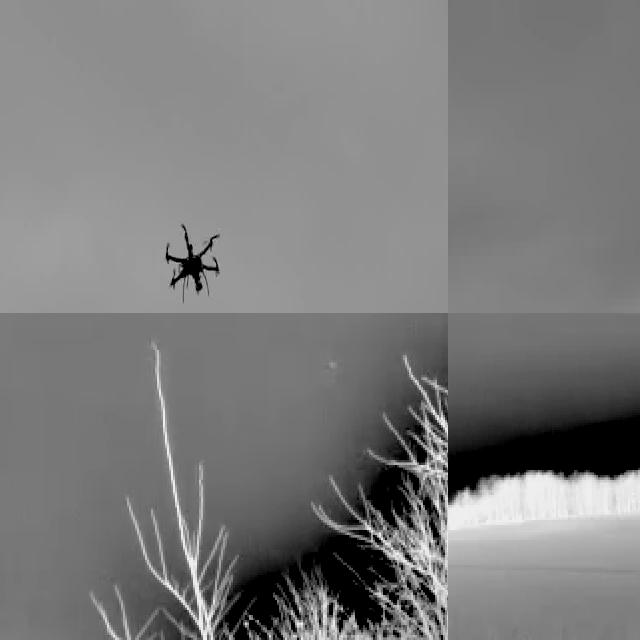0: (315, 352, 349, 386), (607, 382, 640, 415)
drone: (156, 215, 225, 304)
